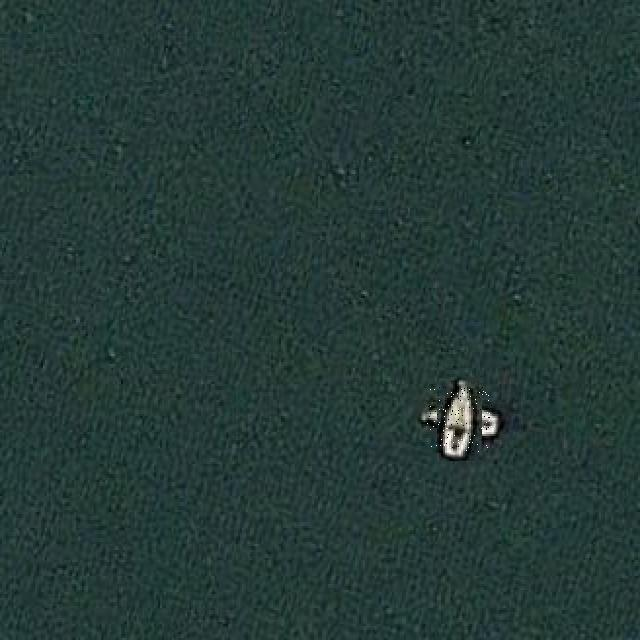boat: (427, 386, 492, 452)
